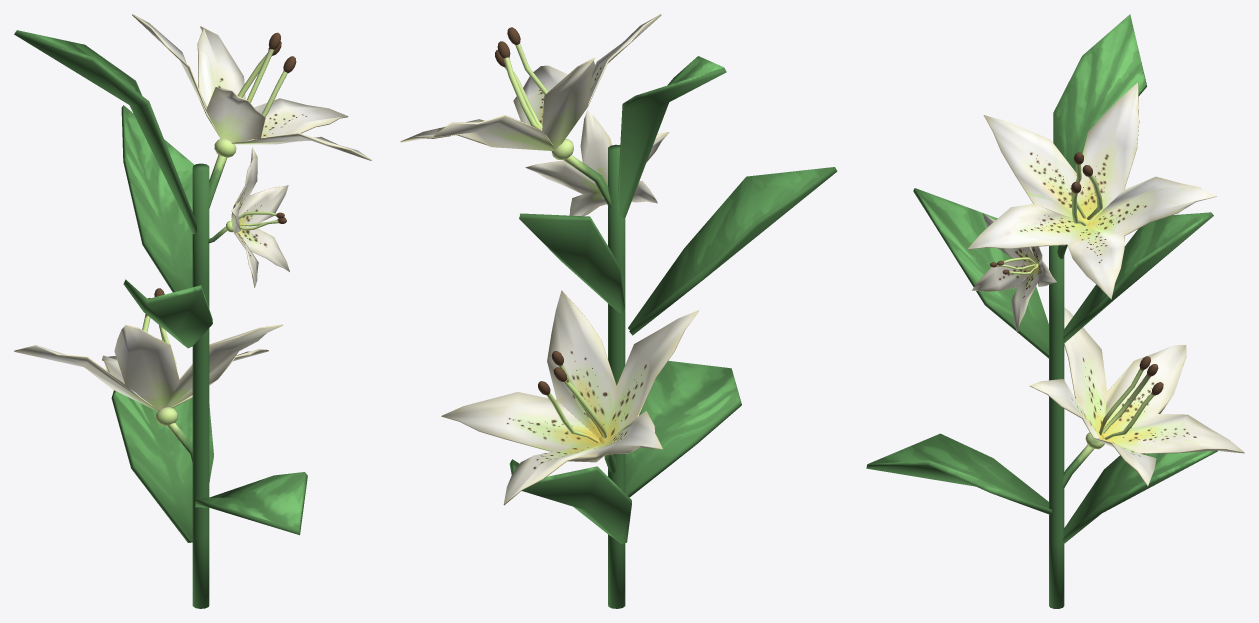
Rendered from lily.fbx.
The picture shows the model from 3 angles, left to right: view 1: azimuth 30°, elevation 25°; view 2: azimuth 150°, elevation 25°; view 3: azimuth 270°, elevation 25°; orthographic projection. The views are drawn at different scales.
Parts seen in each view (by area): view 1: Plane, Cylinder.001, Cylinder; view 2: Cylinder.001, Plane, Cylinder; view 3: Cylinder.001, Plane, Cylinder.
Boxes of the visible parts, x1,y1,x2,y2 form: Plane: (14, 30, 307, 542); Cylinder.001: (14, 14, 371, 462); Cylinder: (192, 163, 209, 608); Cylinder.001: (400, 14, 698, 505); Plane: (509, 56, 837, 543); Cylinder: (608, 144, 625, 608); Cylinder.001: (967, 82, 1244, 488); Plane: (866, 14, 1217, 544); Cylinder: (1049, 245, 1064, 608).
Size of the model in its own units: 50.97 by 87.36 by 56.76.
